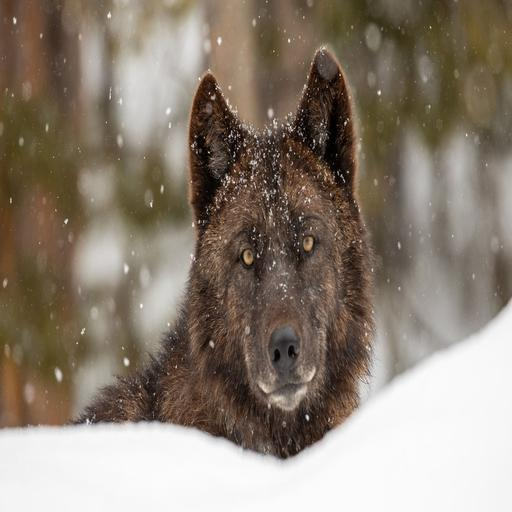Wolf: (40, 39, 386, 482)
